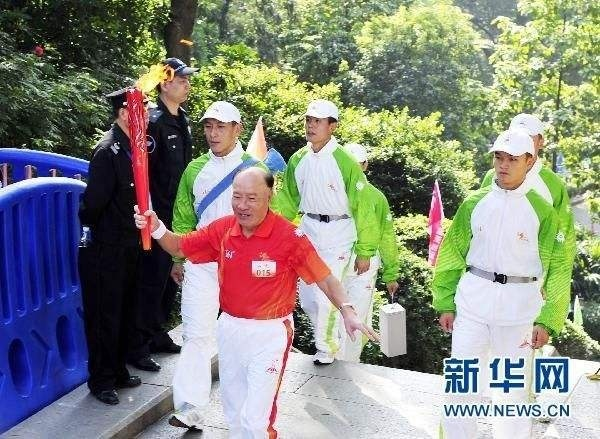fire: (135, 60, 173, 92)
